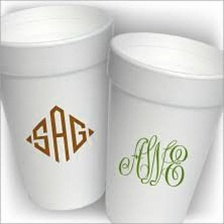paper_cup: (0, 0, 121, 216), (101, 26, 223, 224)
